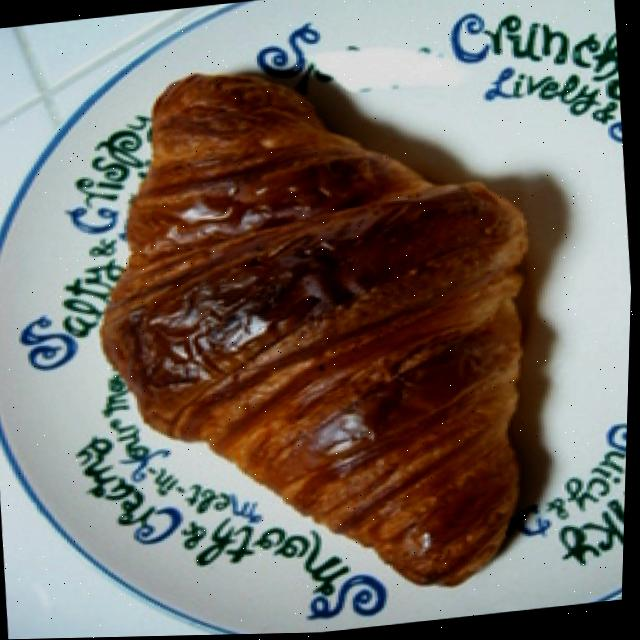面包点心: (58, 27, 580, 626)
